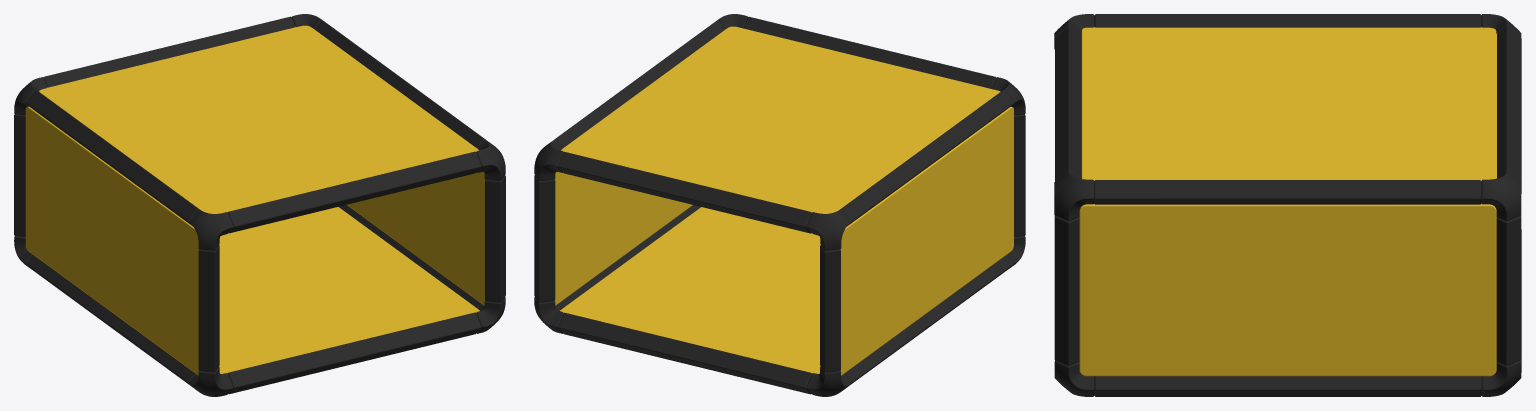
3 renders of one model, left to right at view 1: azimuth 30°, elevation 25°; view 2: azimuth 150°, elevation 25°; view 3: azimuth 270°, elevation 25°, orthographic. The views are drawn at different scales.
Visible parts, largest first — view 1: 329x374x154; view 2: 329x374x154; view 3: 329x374x154.
Boxes of the visible parts, x1,y1,x2,y2 form: 329x374x154: [14, 14, 505, 396]; 329x374x154: [534, 14, 1025, 396]; 329x374x154: [1054, 14, 1521, 396].
Bounding box in the file's own units: 0.4067 × 0.2316 × 0.4513.
